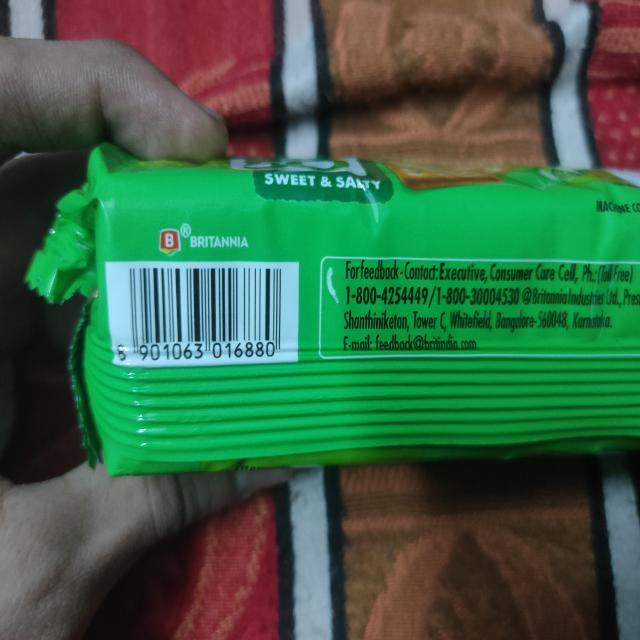biscuit: (23, 157, 640, 457)
